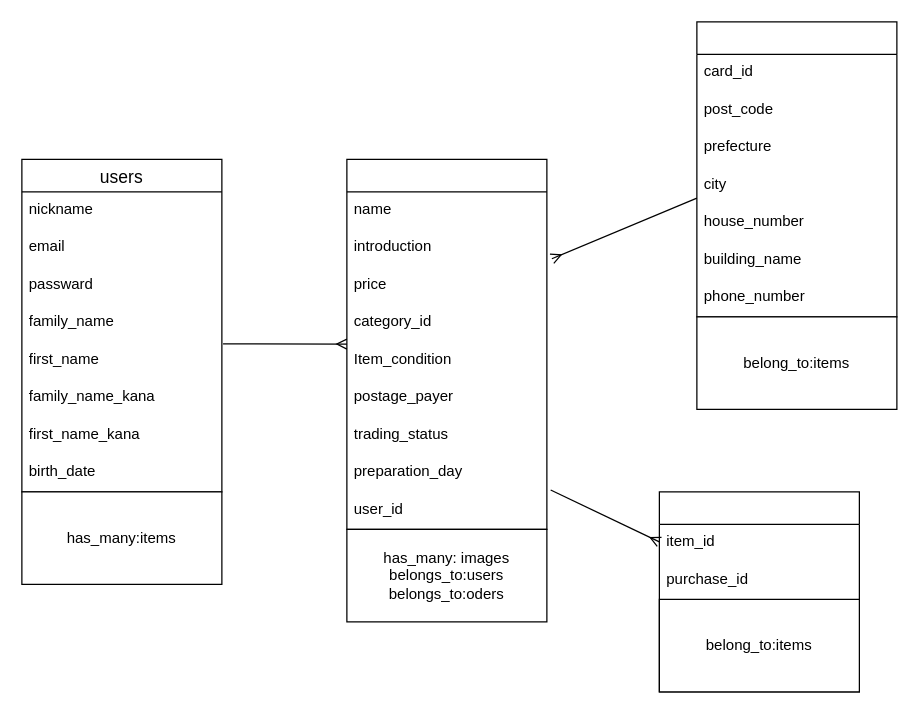
This 919x714 diagram has some shape labels left out. The shapes that lost their labels are listed below. From the top down, each one's box as (x1, y1, x2, y2) in pixels, then its label:
(696, 21, 897, 317): orders
(346, 158, 547, 529): items
(658, 491, 859, 692): images
